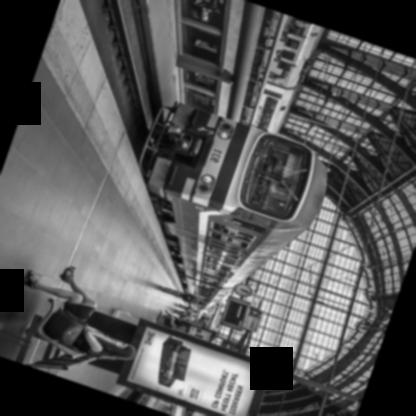backpack: (181, 292, 197, 303)
handbag: (43, 307, 86, 348)
